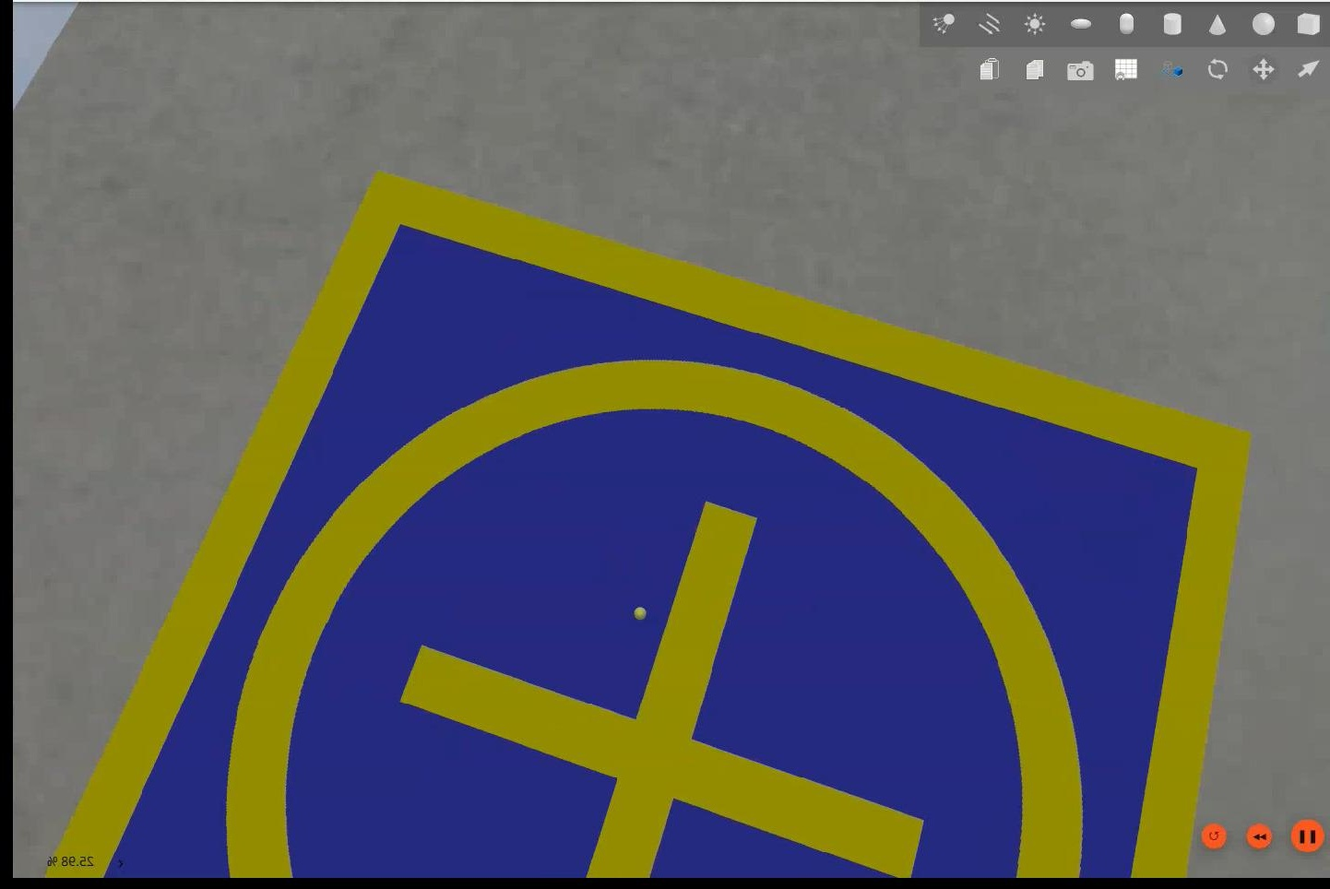small_base: (45, 171, 1253, 879)
